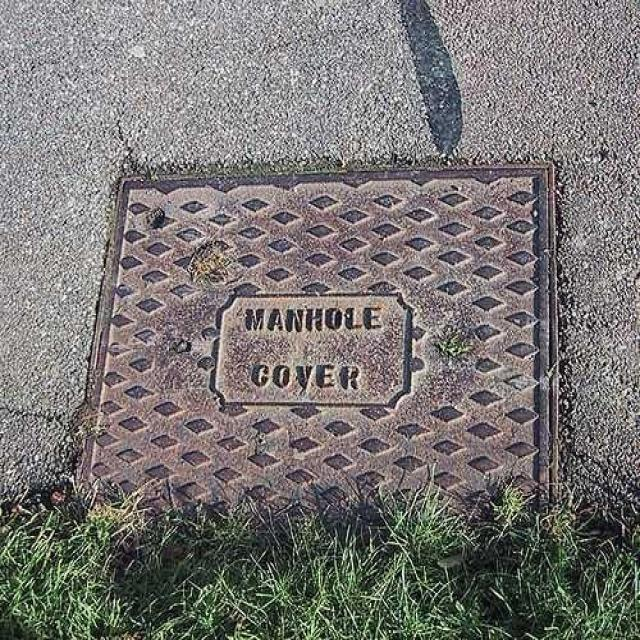manhole: (81, 168, 555, 505)
